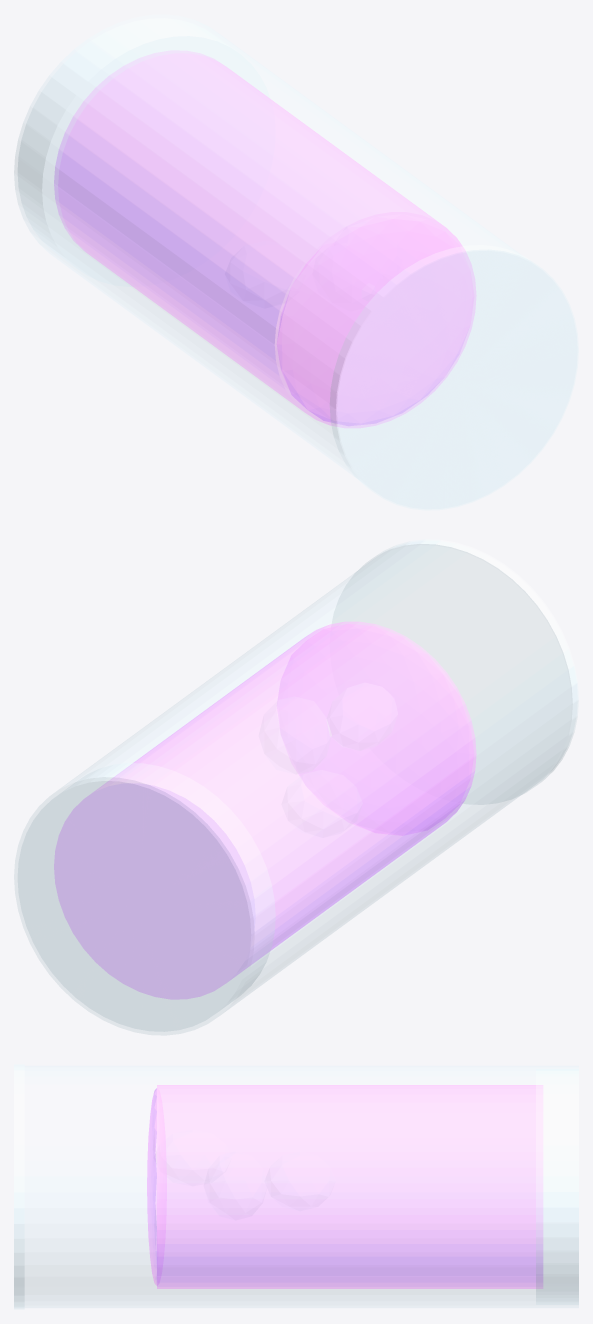
The model's file is nebula_tear_highball.glb.
3 views of the same model, one above another, from view 1: azimuth 30°, elevation 25°; view 2: azimuth 150°, elevation 25°; view 3: azimuth 270°, elevation 25° (orthographic). The views are drawn at different scales.
Visible parts, largest first — view 1: glass_body, liquid, glass_rim, nebula_tear_liquid_meniscus, glass_base; view 2: glass_body, liquid, glass_base, glass_rim, nebula_tear_liquid_meniscus; view 3: glass_body, liquid, glass_base, nebula_tear_liquid_meniscus, glass_rim.
Boxes of the visible parts, x1,y1,x2,y2 form: glass_body: (14,15,576,508); liquid: (54,50,476,427); glass_rim: (330,245,578,510); nebula_tear_liquid_meniscus: (276,214,473,425); glass_base: (18,18,269,286); glass_body: (14,541,576,1034); liquid: (54,621,476,999); glass_base: (18,763,275,1031); glass_rim: (332,539,578,804); nebula_tear_liquid_meniscus: (278,624,473,835); glass_body: (14,1066,578,1307); liquid: (157,1085,542,1288); glass_base: (536,1069,578,1304); nebula_tear_liquid_meniscus: (147,1088,166,1285); glass_rim: (14,1064,24,1309).
Size of the model in its own units: 0.6868 by 0.6868 by 1.58.
